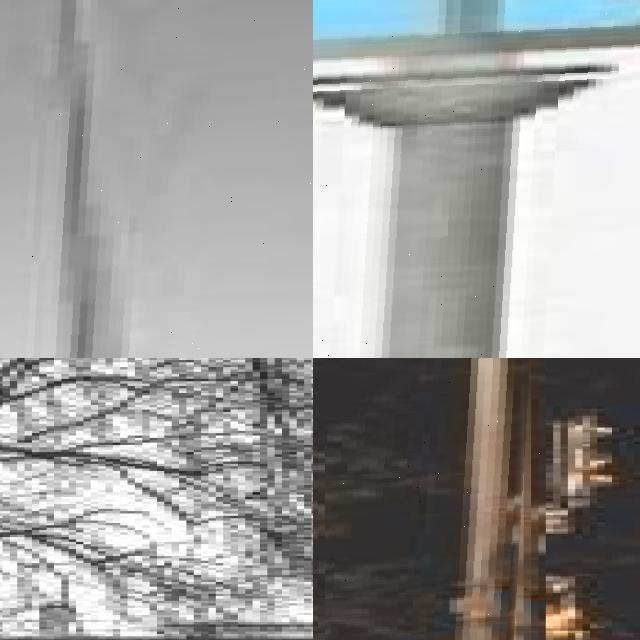street light: (313, 0, 640, 358), (0, 0, 313, 358), (325, 358, 545, 640)
